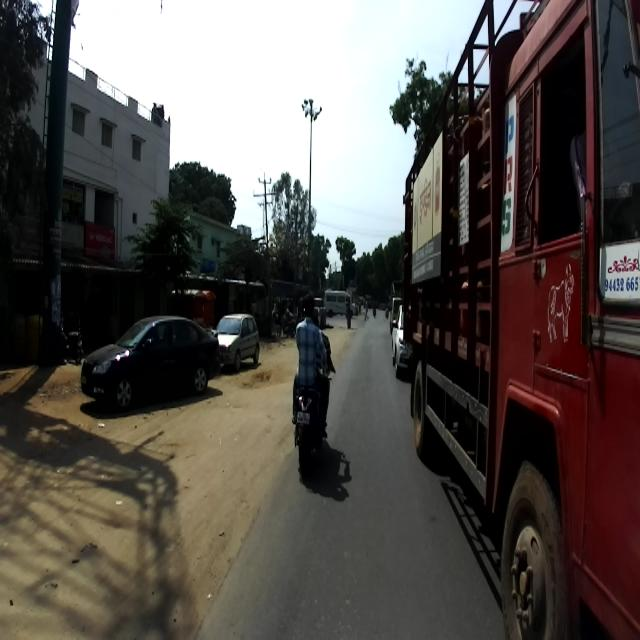car ahead at: (73, 306, 224, 418)
motorcycle ahead at: (288, 382, 337, 480)
truck ahead at: (404, 0, 640, 640)
